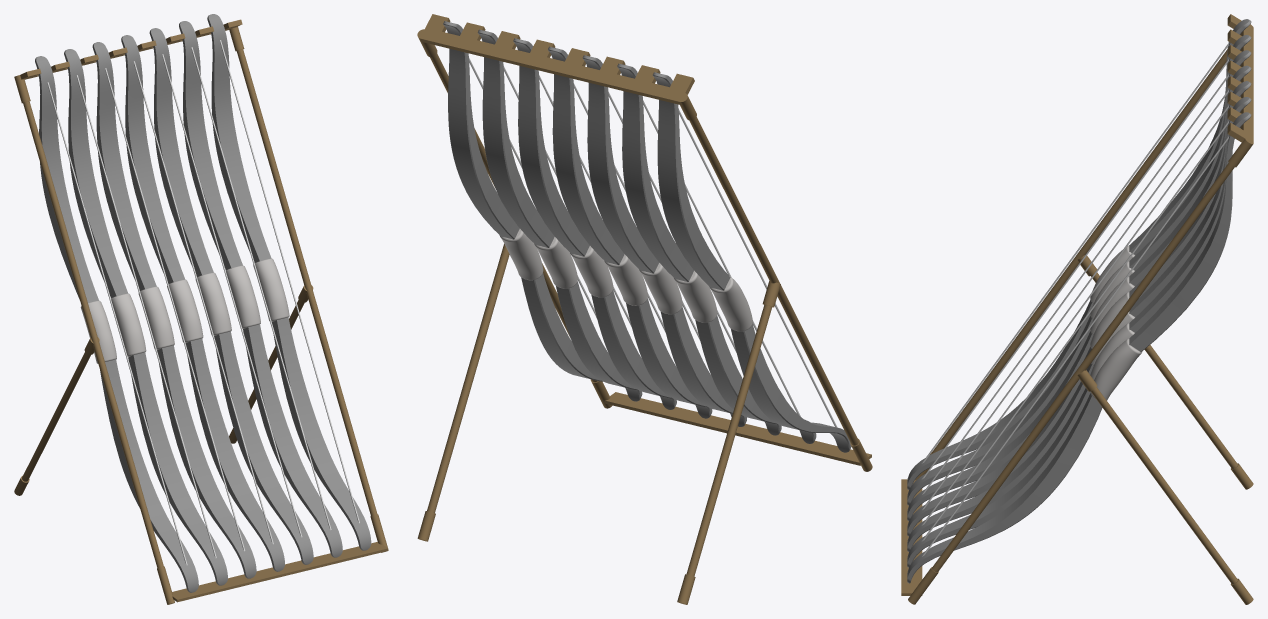
File: 1090_弓立て（弓つき）.glb
3 views of the same model, side by side, from view 1: azimuth 30°, elevation 25°; view 2: azimuth 150°, elevation 25°; view 3: azimuth 270°, elevation 25° (orthographic). The views are drawn at different scales.
Parts seen in each view (by area): view 1: yumitate, bow7, bow2, bow3, bow6, bow4, bow5, bow1; view 2: yumitate, bow1, bow2, bow6, bow3, bow7, bow5, bow4; view 3: yumitate, bow7, bow6, bow2, bow1, bow5, bow3, bow4.
Part boxes in pixels (x1,y1,x2,y2): yumitate: (14, 19, 388, 604); bow7: (207, 14, 371, 550); bow2: (64, 49, 227, 585); bow3: (92, 42, 256, 578); bow6: (179, 21, 342, 557); bow4: (121, 35, 284, 571); bow5: (149, 28, 313, 564); bow1: (35, 56, 198, 592); yumitate: (417, 14, 872, 604); bow1: (652, 72, 851, 452); bow2: (617, 63, 816, 443); bow6: (477, 29, 676, 409); bow3: (582, 55, 781, 435); bow7: (443, 21, 642, 401); bow5: (513, 38, 712, 418); bow4: (548, 46, 746, 426); yumitate: (901, 14, 1253, 604); bow7: (907, 112, 1251, 583); bow6: (907, 97, 1251, 567); bow2: (907, 35, 1251, 505); bow1: (907, 19, 1251, 489); bow5: (907, 81, 1251, 551); bow3: (907, 50, 1251, 520); bow4: (907, 65, 1251, 536).
Bounding box in the file's own units: 0.642 × 1.2 × 0.7967.
